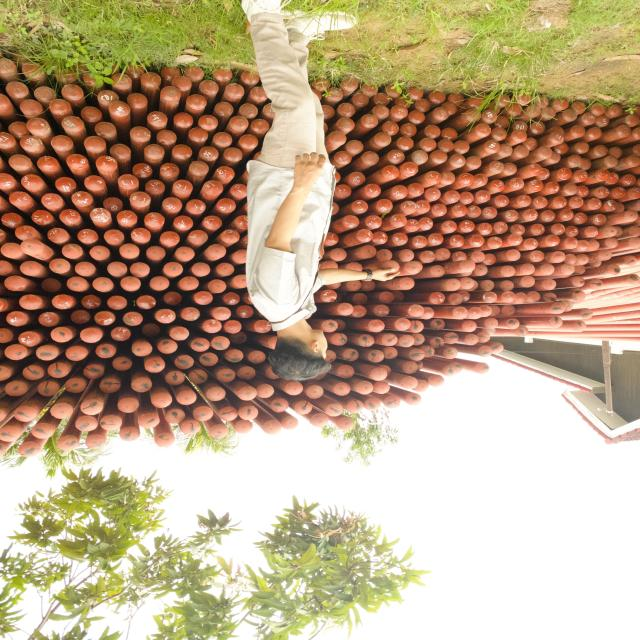nohelmet: (266, 318, 338, 388)
